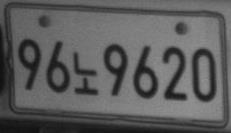0: (192, 47, 216, 102)
2: (162, 45, 187, 100)
6: (133, 46, 159, 99), (45, 40, 70, 93)
9: (102, 42, 128, 96), (18, 37, 41, 89)
노: (72, 51, 98, 95)
